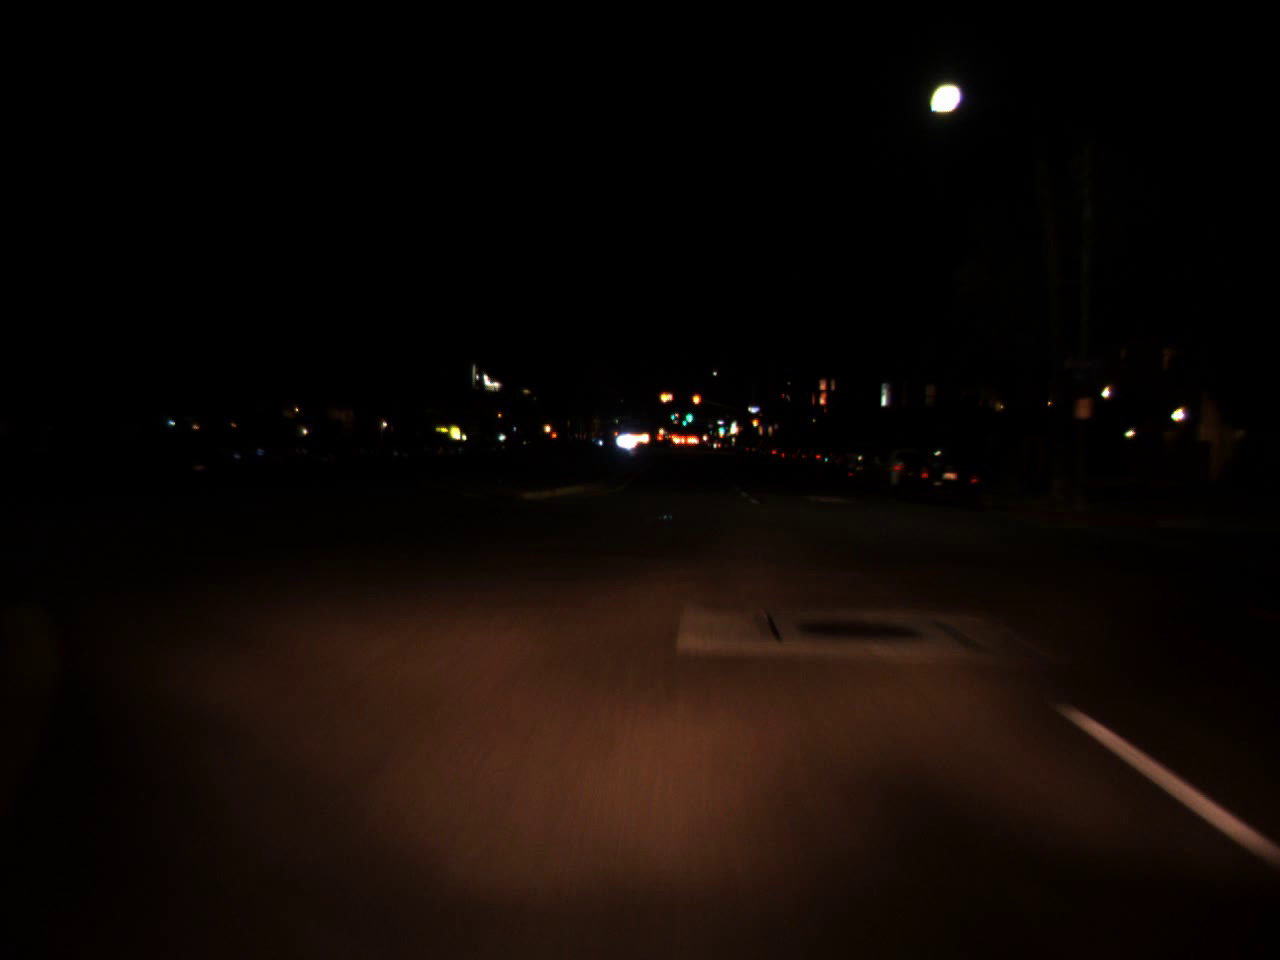go: (683, 402, 693, 426), (679, 412, 688, 427), (718, 419, 725, 435)
warning: (658, 384, 670, 406), (692, 392, 699, 407), (751, 416, 758, 428)
